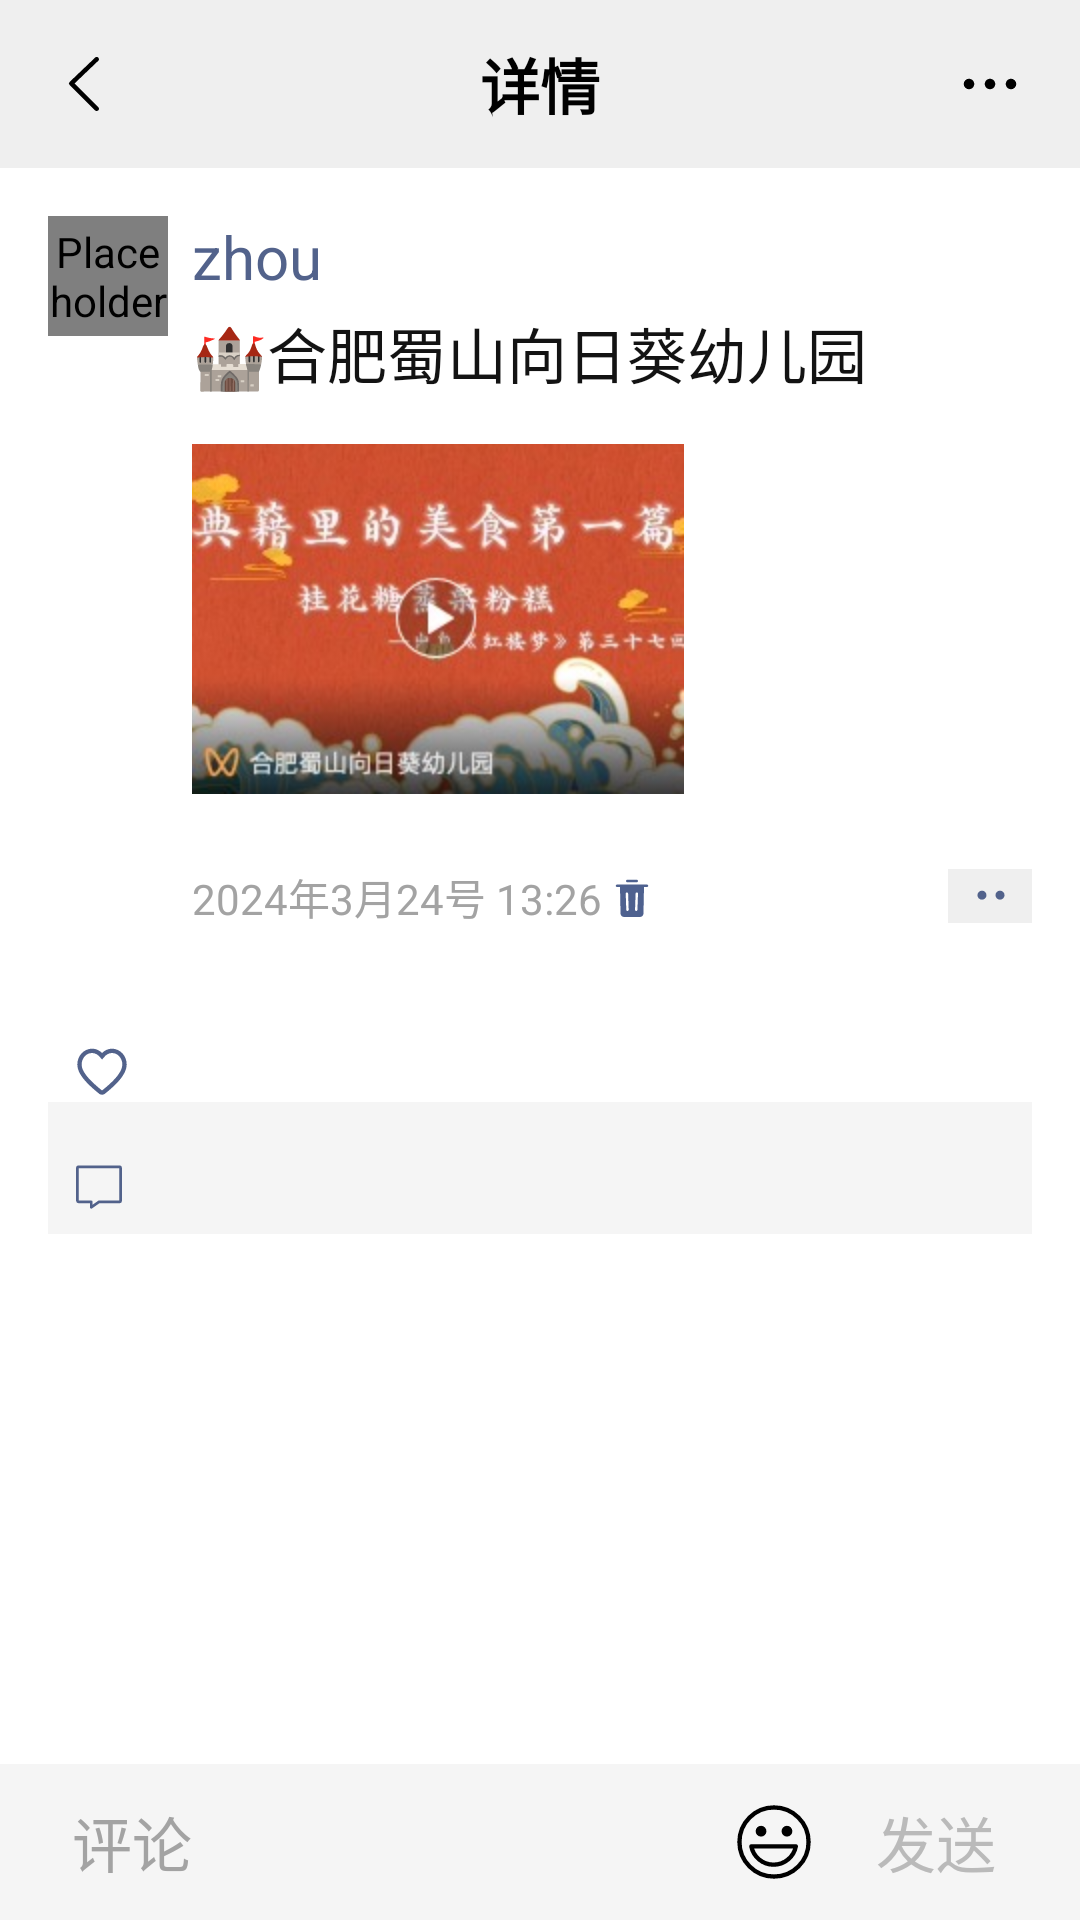

Named icons in this screenshot (1080×1920) and their bounding boxes, Rect(x1, y1, x2, y2):
back: Rect(69, 57, 99, 111)
comment: Rect(76, 1165, 122, 1209)
delete: Rect(616, 879, 648, 917)
double point: Rect(977, 890, 1005, 900)
emj: Rect(737, 1805, 811, 1879)
like: Rect(77, 1048, 127, 1095)
more: Rect(963, 78, 1017, 90)
